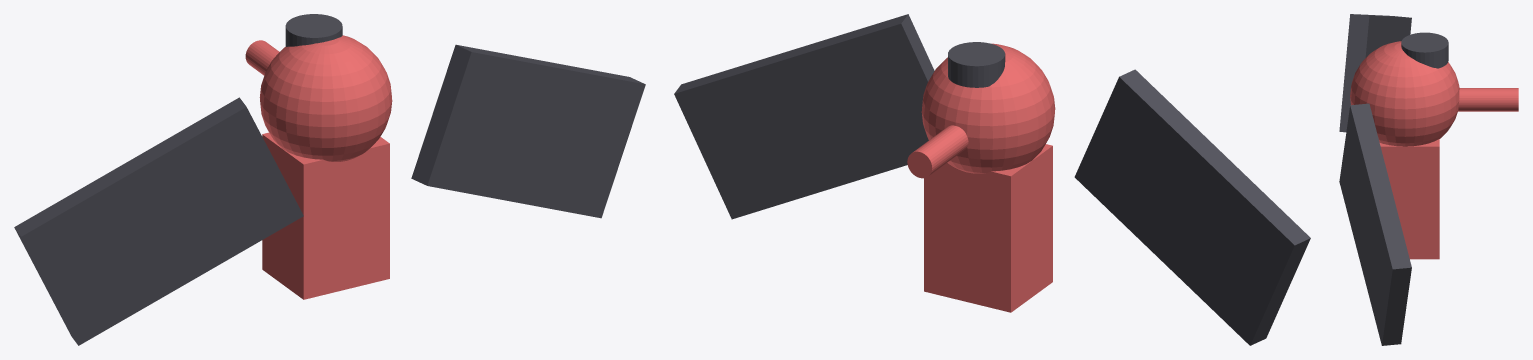
The model's file is enemy_tengu.glb.
The picture shows the model from 3 angles, left to right: view 1: azimuth 30°, elevation 25°; view 2: azimuth 150°, elevation 25°; view 3: azimuth 270°, elevation 25°; orthographic projection. The views are drawn at different scales.
Parts seen in each view (by area): view 1: Wing_L, Wing_R, Cube, Sphere, Cylinder.001, Cylinder; view 2: Wing_R, Wing_L, Cube, Sphere, Cylinder.001, Cylinder; view 3: Wing_R, Sphere, Cube, Wing_L, Cylinder, Cylinder.001.
Part boxes in pixels (bbox=[...]): Wing_L: bbox=[14, 97, 303, 345]; Wing_R: bbox=[411, 44, 645, 218]; Cube: bbox=[262, 132, 389, 299]; Sphere: bbox=[259, 35, 392, 161]; Cylinder.001: bbox=[285, 14, 342, 46]; Cylinder: bbox=[245, 40, 279, 75]; Wing_R: bbox=[674, 14, 934, 219]; Wing_L: bbox=[1074, 69, 1310, 345]; Cube: bbox=[924, 144, 1052, 312]; Sphere: bbox=[921, 43, 1055, 173]; Cylinder.001: bbox=[948, 42, 1005, 87]; Cylinder: bbox=[907, 125, 968, 178]; Wing_R: bbox=[1339, 103, 1411, 345]; Sphere: bbox=[1350, 41, 1459, 146]; Cube: bbox=[1379, 139, 1439, 259]; Wing_L: bbox=[1339, 14, 1411, 132]; Cylinder: bbox=[1458, 88, 1518, 111]; Cylinder.001: bbox=[1401, 32, 1448, 68].
Bounding box in the file's own units: 3.04 × 1.12 × 0.9091.
